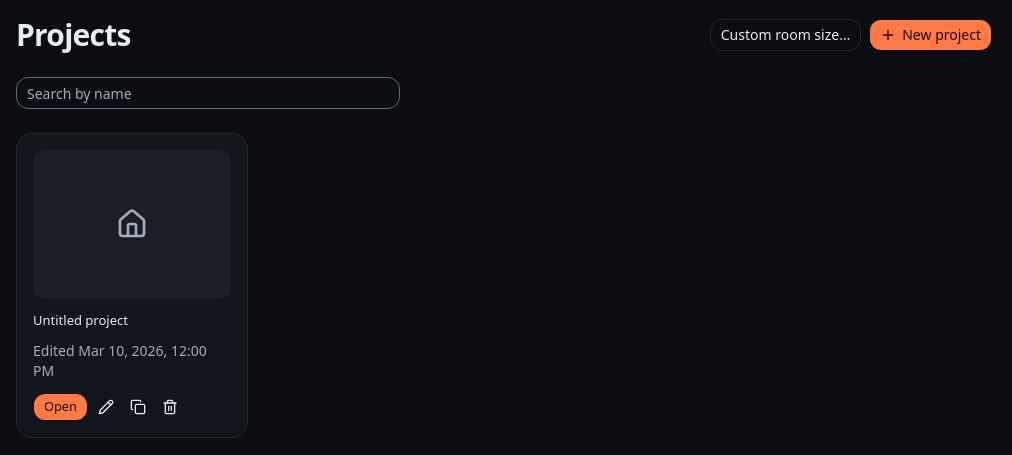
Scenario: ProjectsScreen: new project › saves a project with a starter document, a free name and a new id, and shows it
Expected: the list named "Your projects" is shown, [16, 133, 248, 438]
Click the button "New project" at (931, 35), box [869, 19, 992, 51]
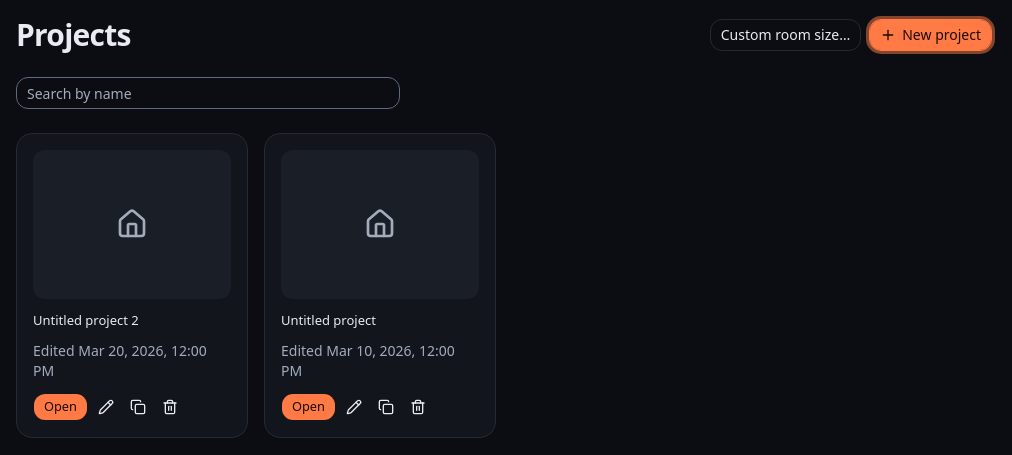
Result: the heading "Untitled project 2" is shown at [33, 310, 139, 328]
